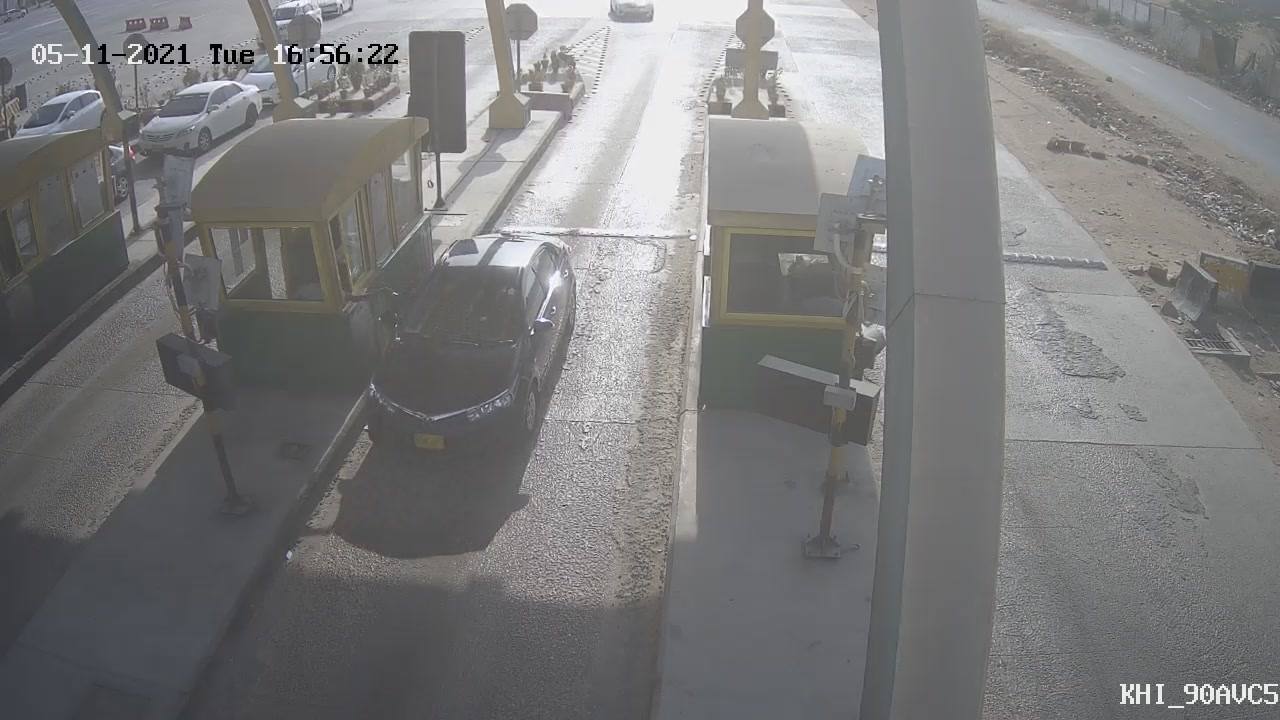F1: (334, 217, 596, 481)
